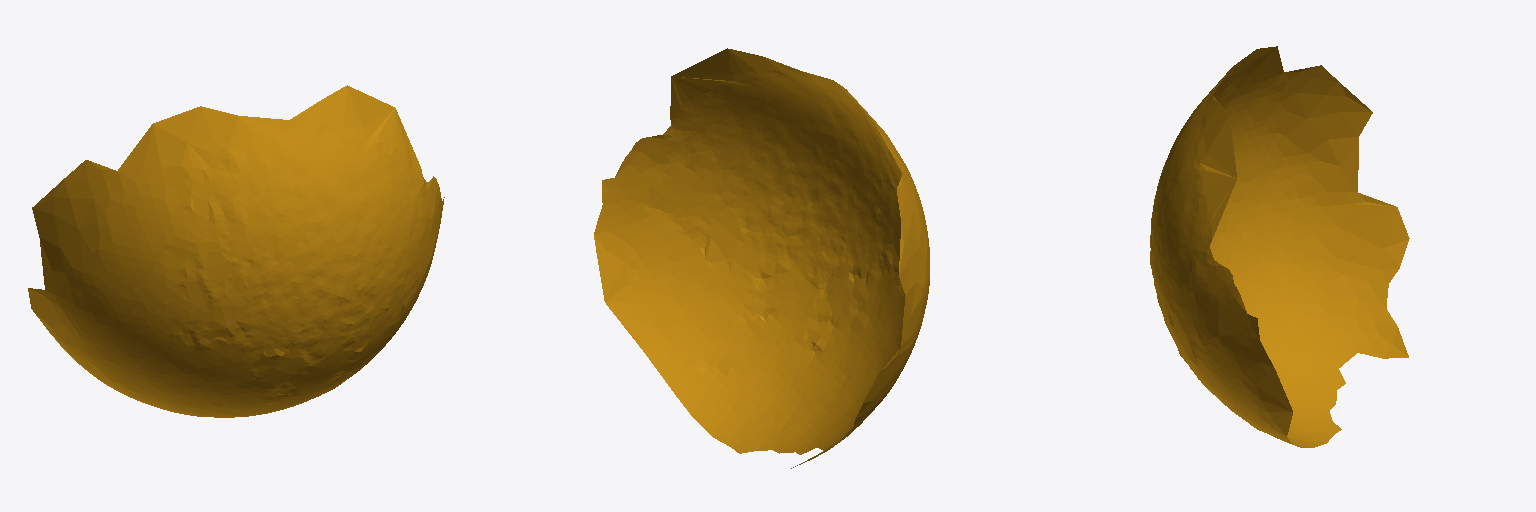
Rendered from CameraFocus_M24.000001.obj.
The picture shows the model from 3 angles: view 1: azimuth 30°, elevation 25°; view 2: azimuth 150°, elevation 25°; view 3: azimuth 270°, elevation 25°; orthographic projection.
Parts seen in each view (by area): view 1: CameraFocus_M24.000001; view 2: CameraFocus_M24.000001; view 3: CameraFocus_M24.000001.
Part boxes in pixels (left/top/right/bottom): CameraFocus_M24.000001: left=28, top=85, right=444, bottom=417; CameraFocus_M24.000001: left=594, top=48, right=929, bottom=468; CameraFocus_M24.000001: left=1150, top=46, right=1409, bottom=447.
Size of the model in its own units: 150 by 141 by 95.25.